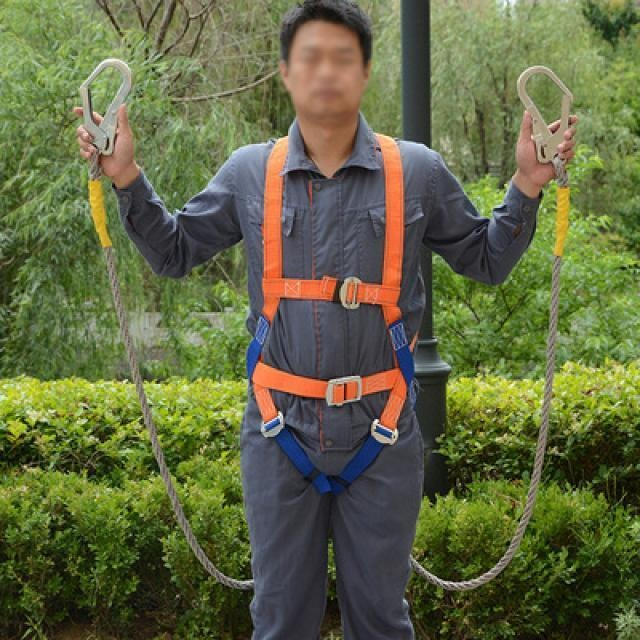Arnes_seguridad: (240, 120, 429, 502)
